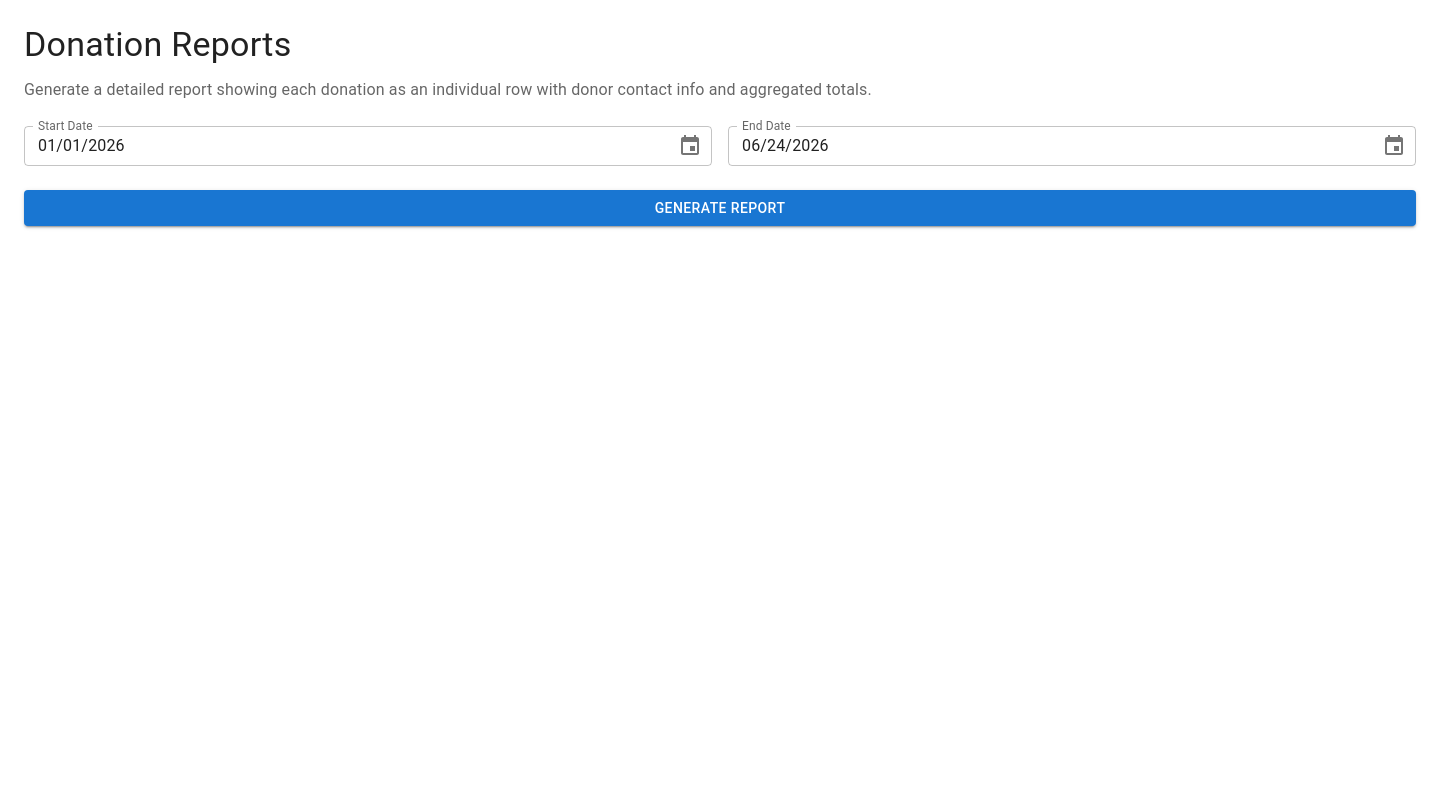
Scenario: ReportsPage › displays donor summary section with period and all-time totals
Click the button "Generate Report": point(720, 208) [24, 190, 1416, 226]
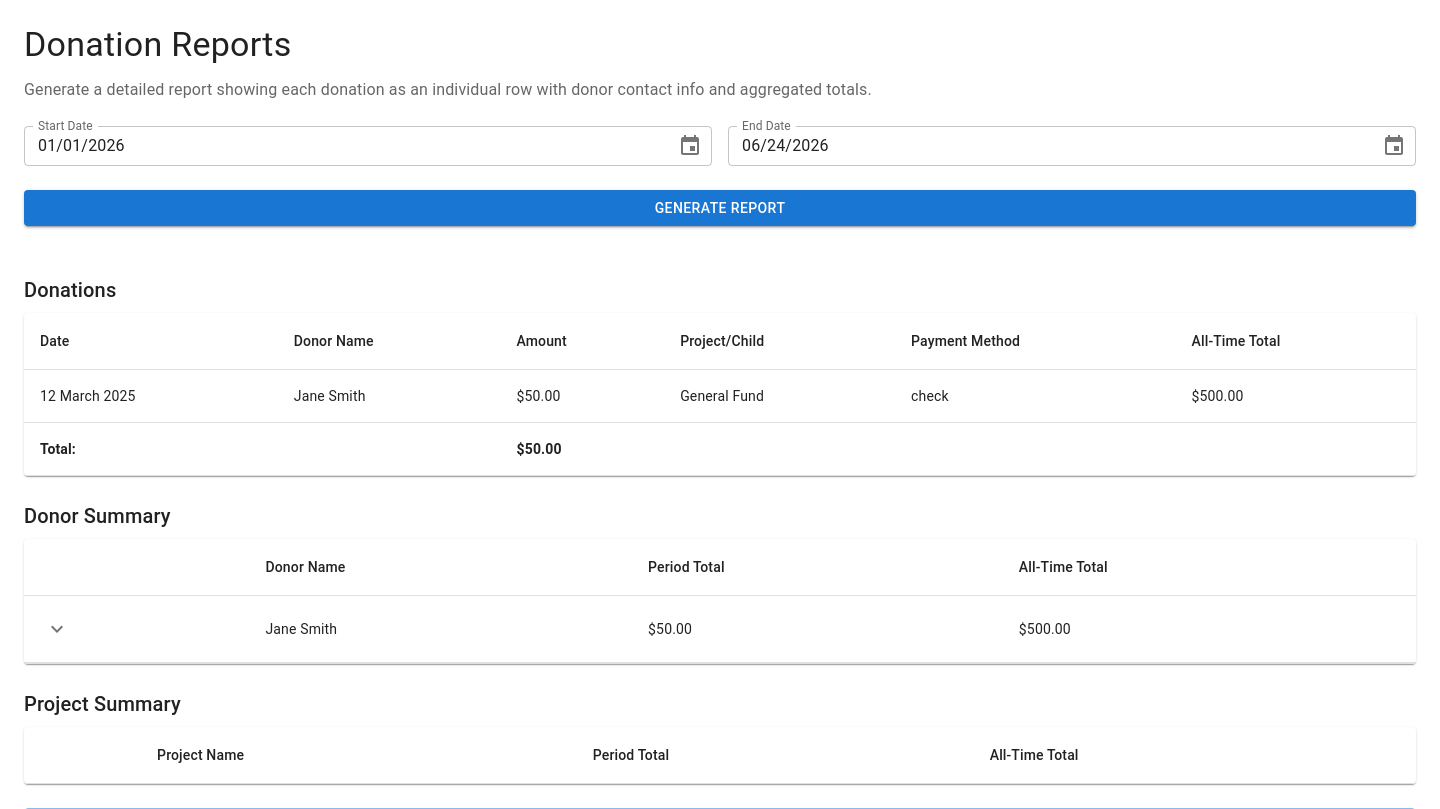
Now the heading "Donor Summary" is shown, box [24, 504, 171, 528]
Now the text "$50.00" in the row of "12 March 2025" is shown, box [516, 388, 560, 404]
Now the text "$500.00" in the row of "12 March 2025" is shown, box [1192, 388, 1244, 404]
